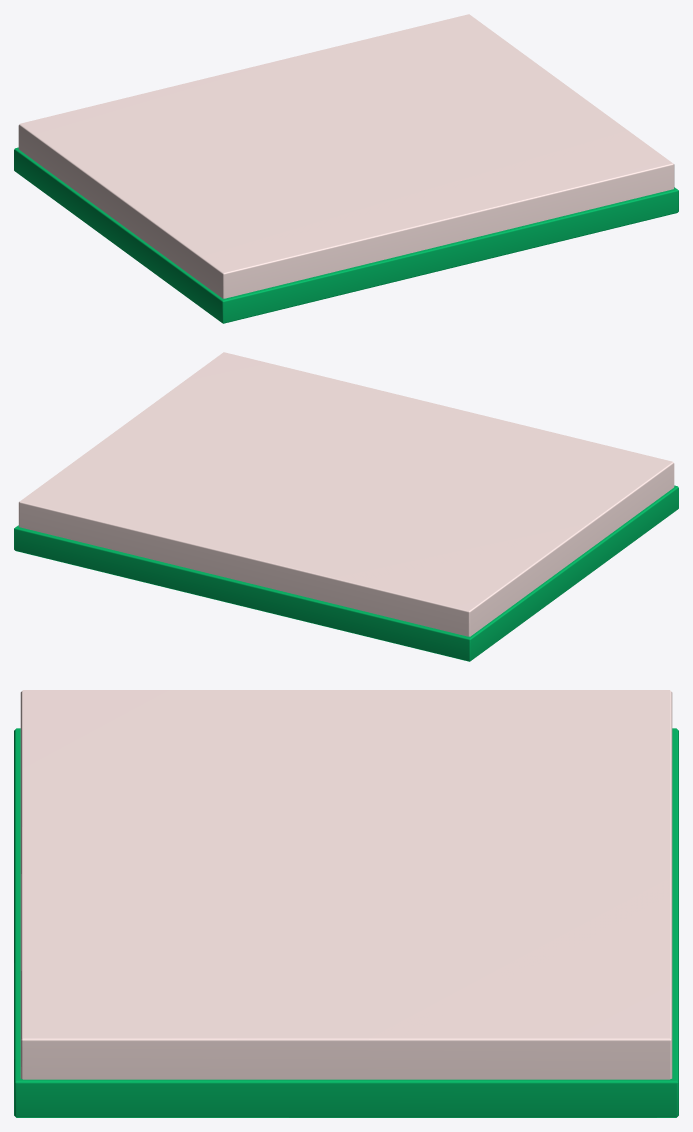
The model's file is Store_10_Base_1.glb.
3 renders of one model, top to bottom at view 1: azimuth 30°, elevation 25°; view 2: azimuth 150°, elevation 25°; view 3: azimuth 270°, elevation 25°, orthographic. The views are drawn at different scales.
Parts seen in each view (by area): view 1: Store_10_Base_1; view 2: Store_10_Base_1; view 3: Store_10_Base_1.
Part boxes in pixels (x1=…): Store_10_Base_1: x1=14, y1=14, x2=678, y2=323; Store_10_Base_1: x1=14, y1=352, x2=678, y2=661; Store_10_Base_1: x1=14, y1=690, x2=678, y2=1117.
Bounding box in the file's own units: 15.84 × 1.62 × 12.56.
Materials: 1 (1 with a texture image).
